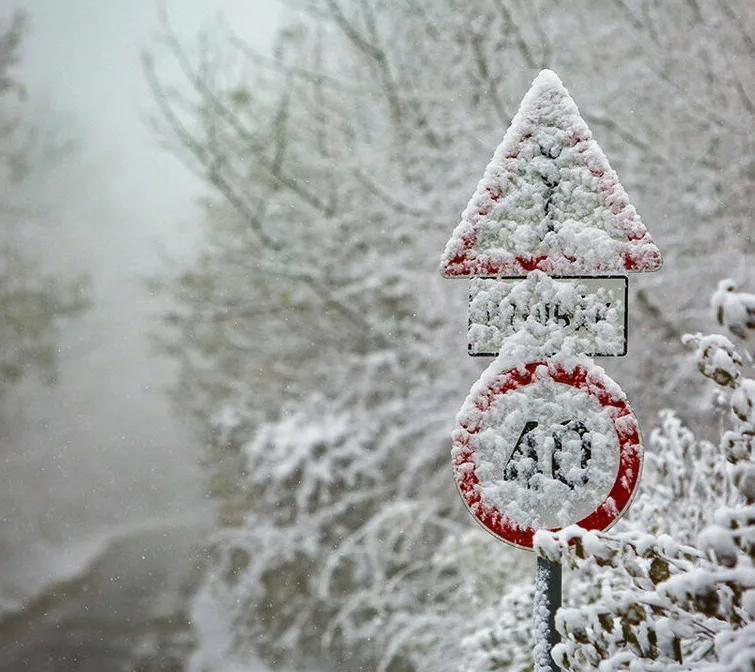obstructed_road_sign: (439, 69, 662, 278), (452, 360, 646, 551), (468, 277, 627, 358)
